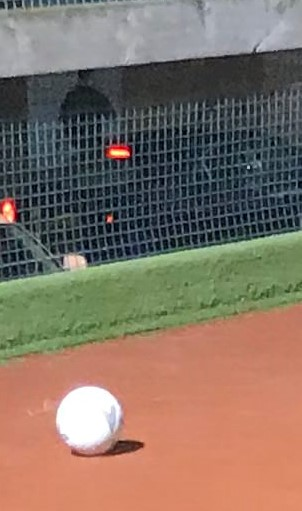football: (57, 387, 127, 456)
